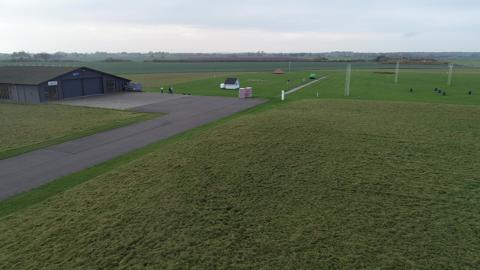RockwoolPallet: (244, 86, 252, 97)
